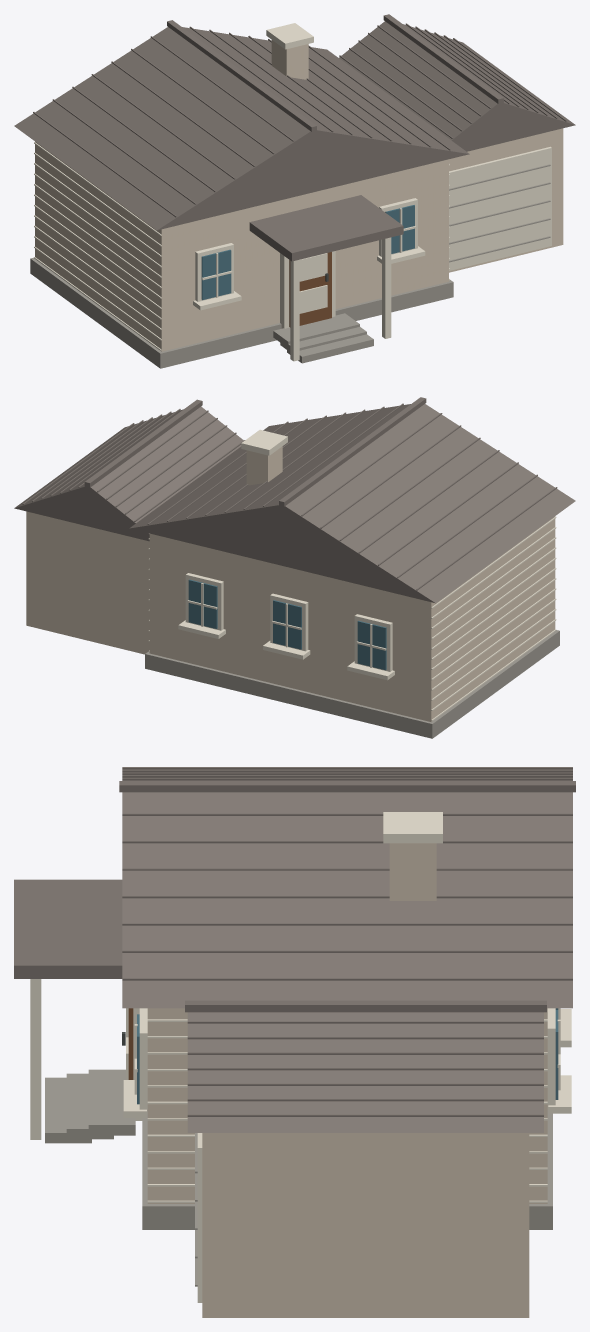
File: house-2.glb
3 views of the same model, one above another, from view 1: azimuth 30°, elevation 25°; view 2: azimuth 150°, elevation 25°; view 3: azimuth 270°, elevation 25° (orthographic). The views are drawn at different scales.
Parts seen in each view (by area): view 1: house-2; view 2: house-2; view 3: house-2.
Boxes of the visible parts, x1,y1,x2,y2 form: house-2: [14, 14, 575, 368]; house-2: [14, 397, 575, 738]; house-2: [14, 767, 575, 1317].
Size of the model in its own units: 11.03 by 5.27 by 7.73.
